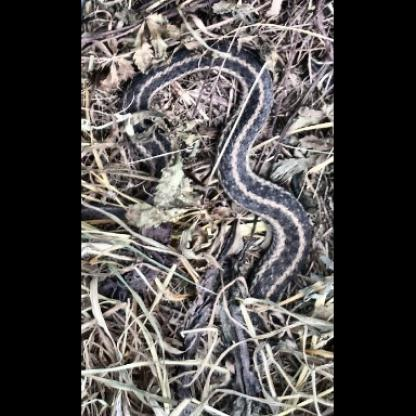Snake: (111, 42, 314, 398)
